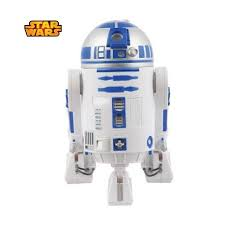r2d2: (64, 20, 174, 206)
